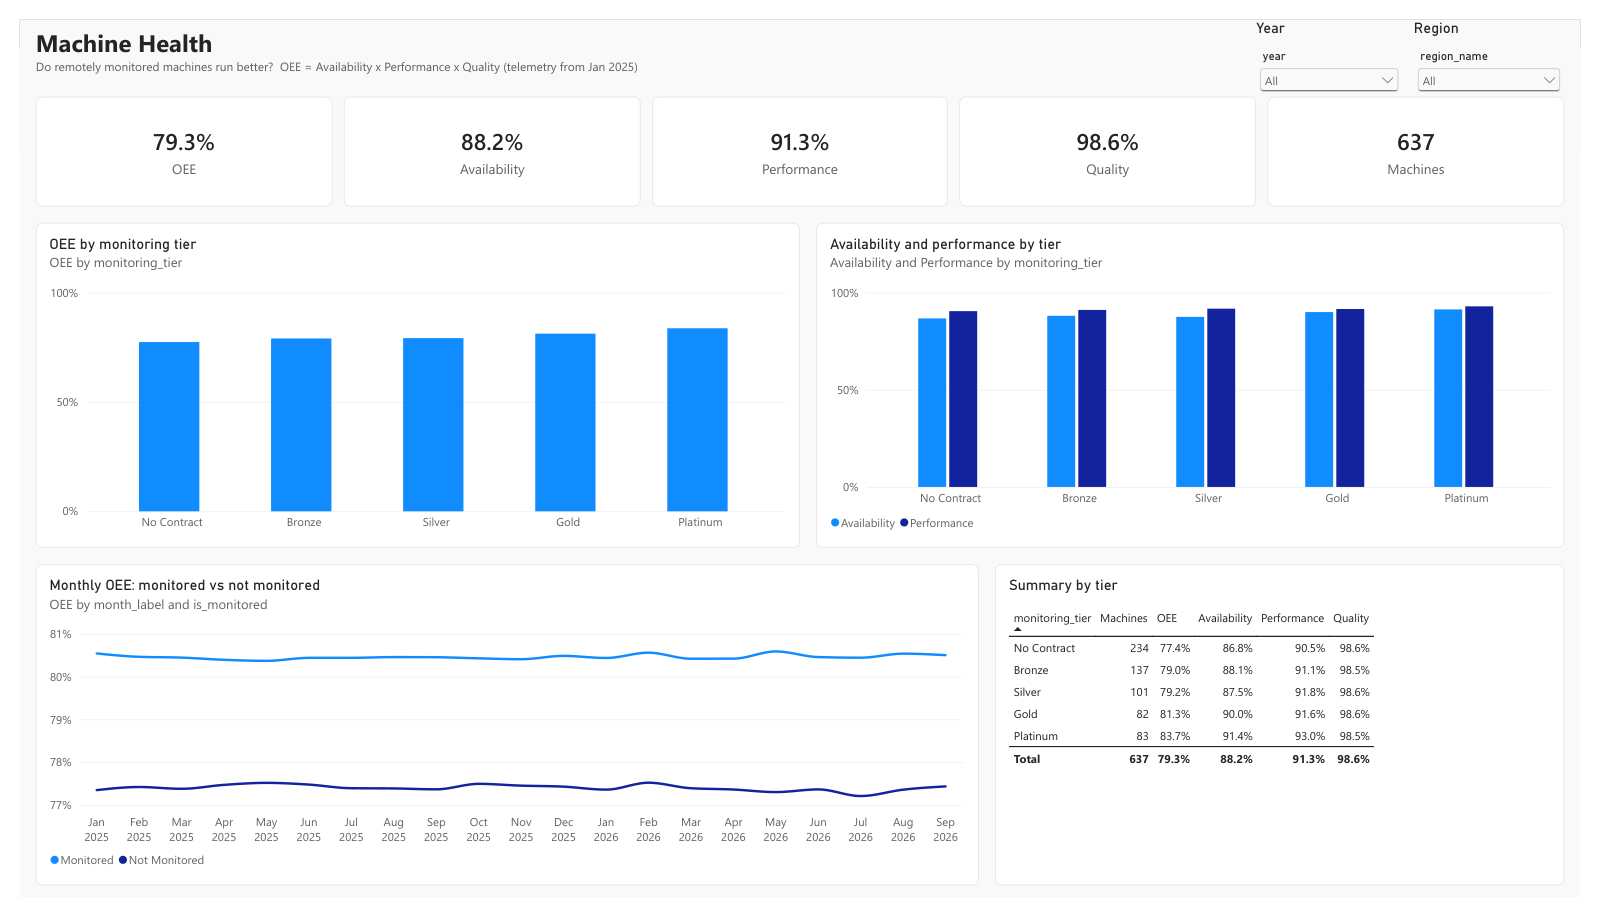

This screenshot's page, from the dashboard's own definition file:
{"tool":"powerbi","page":{"name":"Machine Health","canvas":[1920,1080],"ordinal":2},"visuals":[{"type":"textbox","box":[20,8,1480,74],"z":0},{"type":"slicer","title":"Year","fields":{"Values":["dim_date.year"]},"box":[1521,0,180,95],"z":1},{"type":"slicer","title":"Region","fields":{"Values":["dim_region.region_name"]},"box":[1715,0,185,95],"z":2},{"type":"card","fields":{"Values":["_Measures.OEE"]},"box":[20,95,364.8,135],"z":3},{"type":"card","fields":{"Values":["_Measures.Availability"]},"box":[398.8,95,364.8,135],"z":4},{"type":"card","fields":{"Values":["_Measures.Performance"]},"box":[777.6,95,364.8,135],"z":5},{"type":"card","fields":{"Values":["_Measures.Quality"]},"box":[1156.4,95,364.8,135],"z":6},{"type":"card","fields":{"Values":["_Measures.Machines"]},"box":[1535.2,95,364.8,135],"z":7},{"type":"clusteredColumnChart","title":"OEE by monitoring tier","fields":{"Category":["dim_machine.monitoring_tier"],"Y":["_Measures.OEE"]},"box":[20,250,940,400],"z":8},{"type":"clusteredColumnChart","title":"Availability and performance by tier","fields":{"Category":["dim_machine.monitoring_tier"],"Y":["_Measures.Availability","_Measures.Performance"]},"box":[980,250,920,400],"z":9},{"type":"lineChart","title":"Monthly OEE: monitored vs not monitored","fields":{"Category":["dim_date.month_label"],"Series":["dim_machine.is_monitored"],"Y":["_Measures.OEE"]},"box":[20,670,1160,395],"z":10},{"type":"tableEx","title":"Summary by tier","fields":{"Values":["dim_machine.monitoring_tier","_Measures.Machines","_Measures.OEE","_Measures.Availability","_Measures.Performance","_Measures.Quality"]},"box":[1200,670,700,395],"z":11}]}

Visuals, with their boxes in screenshot pixels (x1, y1, x2, y2), scaled from the page's 1920x1080 canvas onto the 1600x918 screenshot:
textbox: <box>17,7,1250,70</box>
"Year" slicer: <box>1268,0,1418,81</box>
"Region" slicer: <box>1429,0,1583,81</box>
card - _Measures.OEE: <box>17,81,321,196</box>
card - _Measures.Availability: <box>332,81,636,196</box>
card - _Measures.Performance: <box>648,81,952,196</box>
card - _Measures.Quality: <box>964,81,1268,196</box>
card - _Measures.Machines: <box>1279,81,1583,196</box>
"OEE by monitoring tier" clusteredColumnChart: <box>17,212,800,552</box>
"Availability and performance by tier" clusteredColumnChart: <box>817,212,1583,552</box>
"Monthly OEE: monitored vs not monitored" lineChart: <box>17,570,983,905</box>
"Summary by tier" tableEx: <box>1000,570,1583,905</box>
